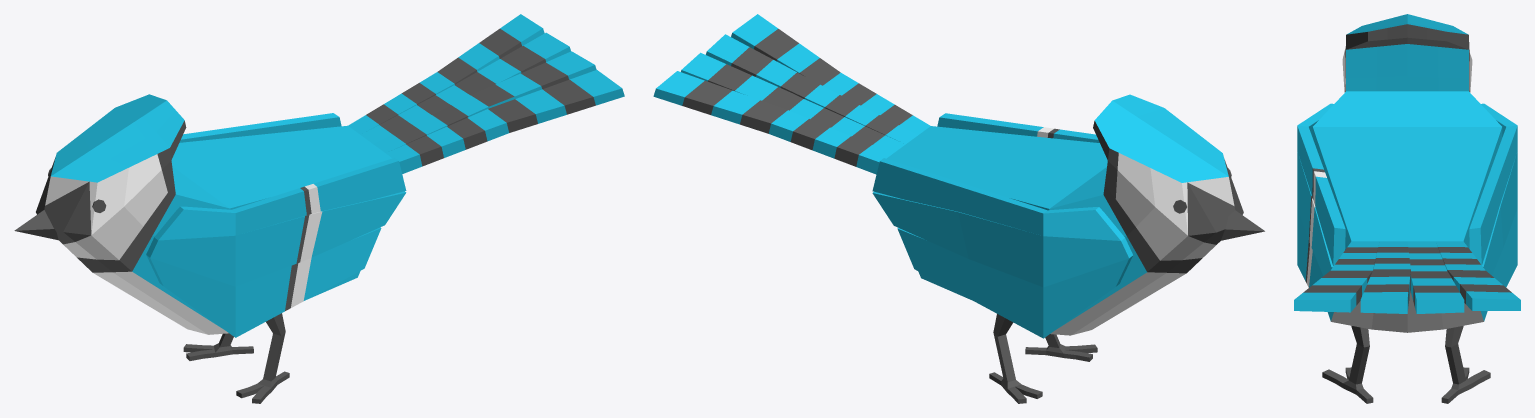
File: bluejay.glb
3 renders of one model, left to right at view 1: azimuth 30°, elevation 25°; view 2: azimuth 150°, elevation 25°; view 3: azimuth 270°, elevation 25°, orthographic. The views are drawn at different scales.
Visible parts, largest first — view 1: Cube.034_Cube.035; view 2: Cube.034_Cube.035; view 3: Cube.034_Cube.035.
Boxes of the visible parts, x1,y1,x2,y2 form: Cube.034_Cube.035: (14, 14, 624, 403); Cube.034_Cube.035: (653, 14, 1264, 403); Cube.034_Cube.035: (1294, 14, 1520, 403).
Size of the model in its own units: 386 by 189 by 120.
